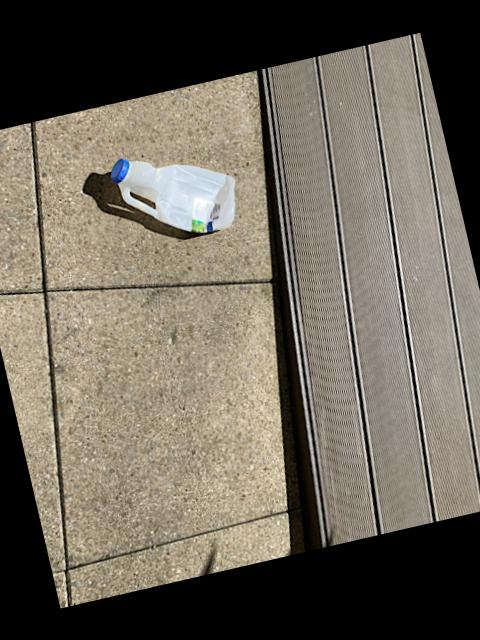plastic: (111, 160, 235, 234)
